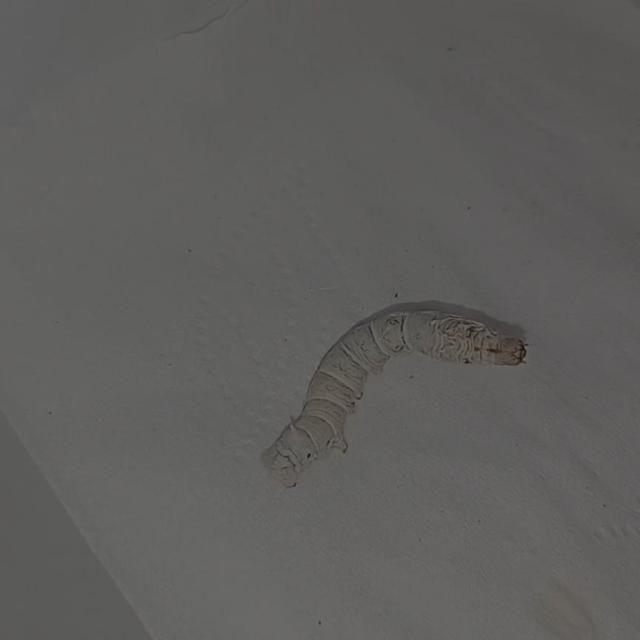Healthy: (234, 280, 574, 504)
